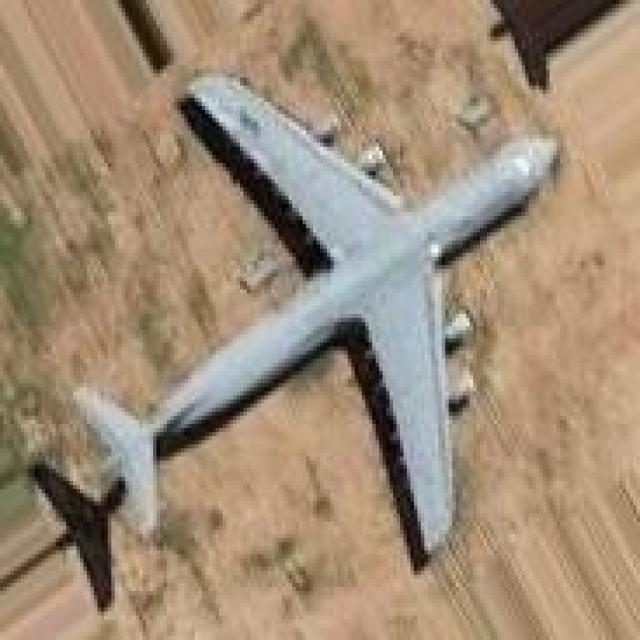C-5_TopDown: (27, 65, 564, 629)
